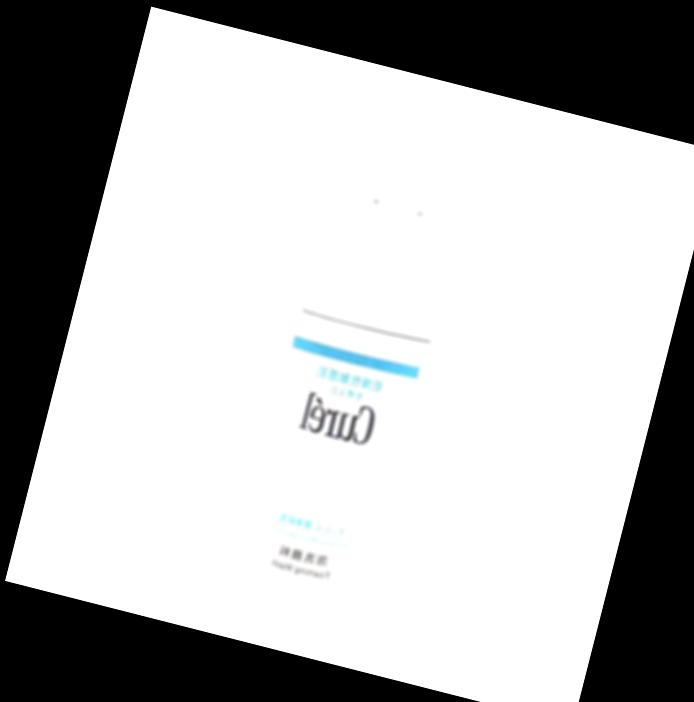cosmetic: (193, 92, 521, 651)
